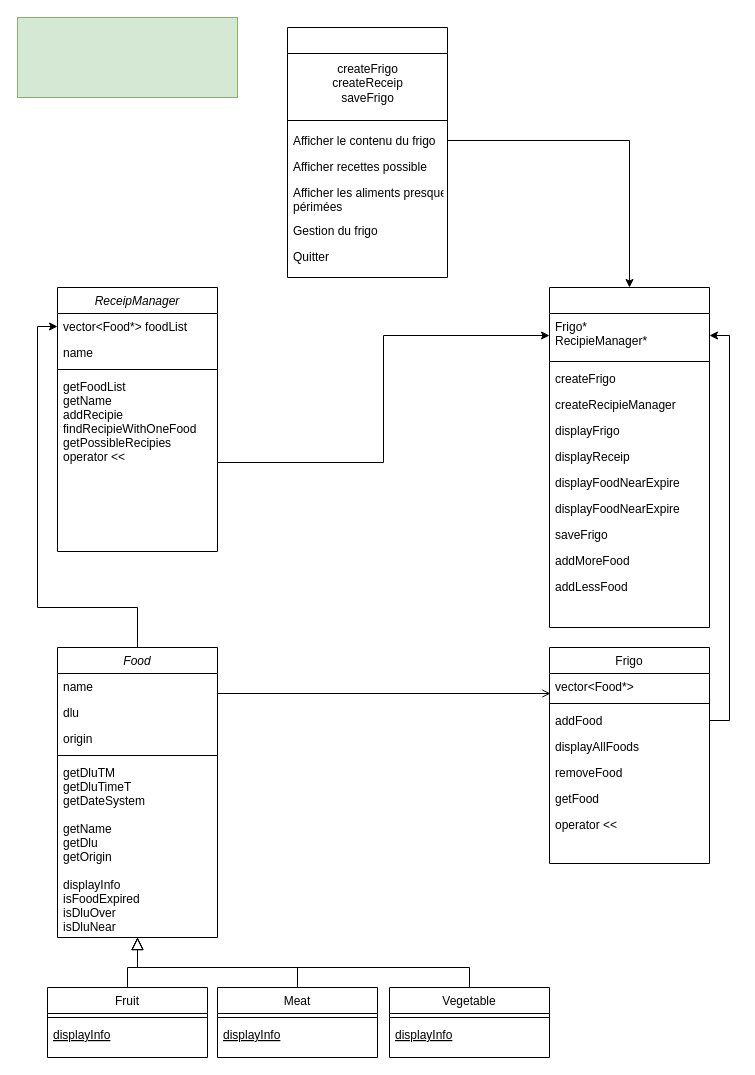
Some shapes in this 755 by 1075 pixel diagram are drawn without their labels. The box of each missing label's shape, as (x1, y1, x2, y2) in pixels:
Controller: (548, 286, 710, 628)
DIAGRAMME DE CLASSE : GESTION DE FRIGO: (16, 16, 238, 98)
Main: (286, 26, 448, 278)
